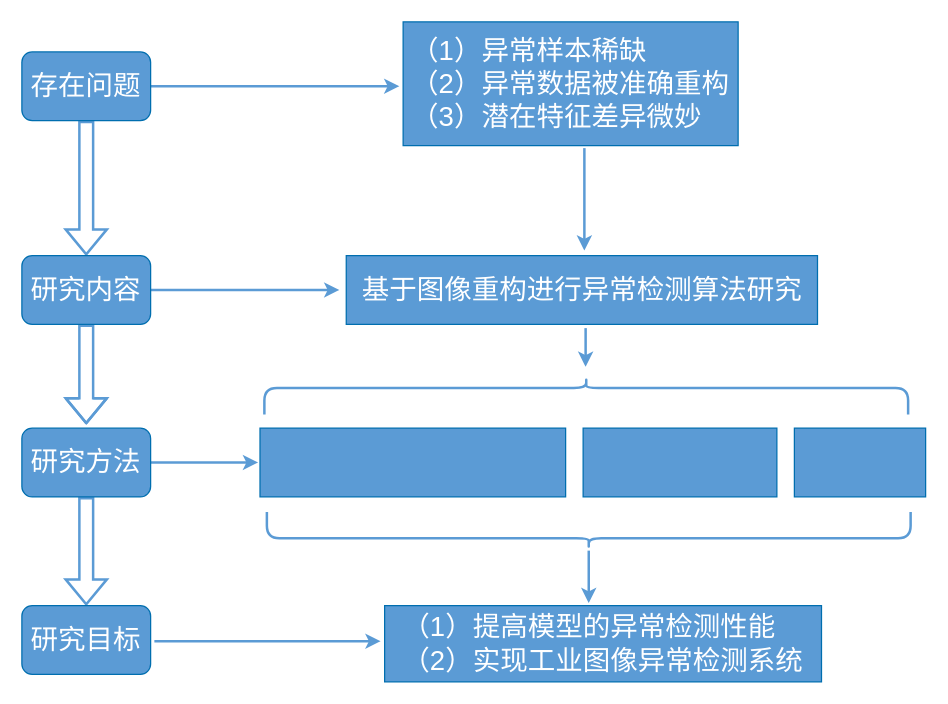
This 948x704 diagram has some shape labels left out. The shapes that lost their labels are listed below. From the top down, each one's centre as x and y in pixels, then its label:
pixel 412 462: 生产对抗网络+自编码器
pixel 679 462: 局部关键特征
pixel 859 462: 潜在特征
